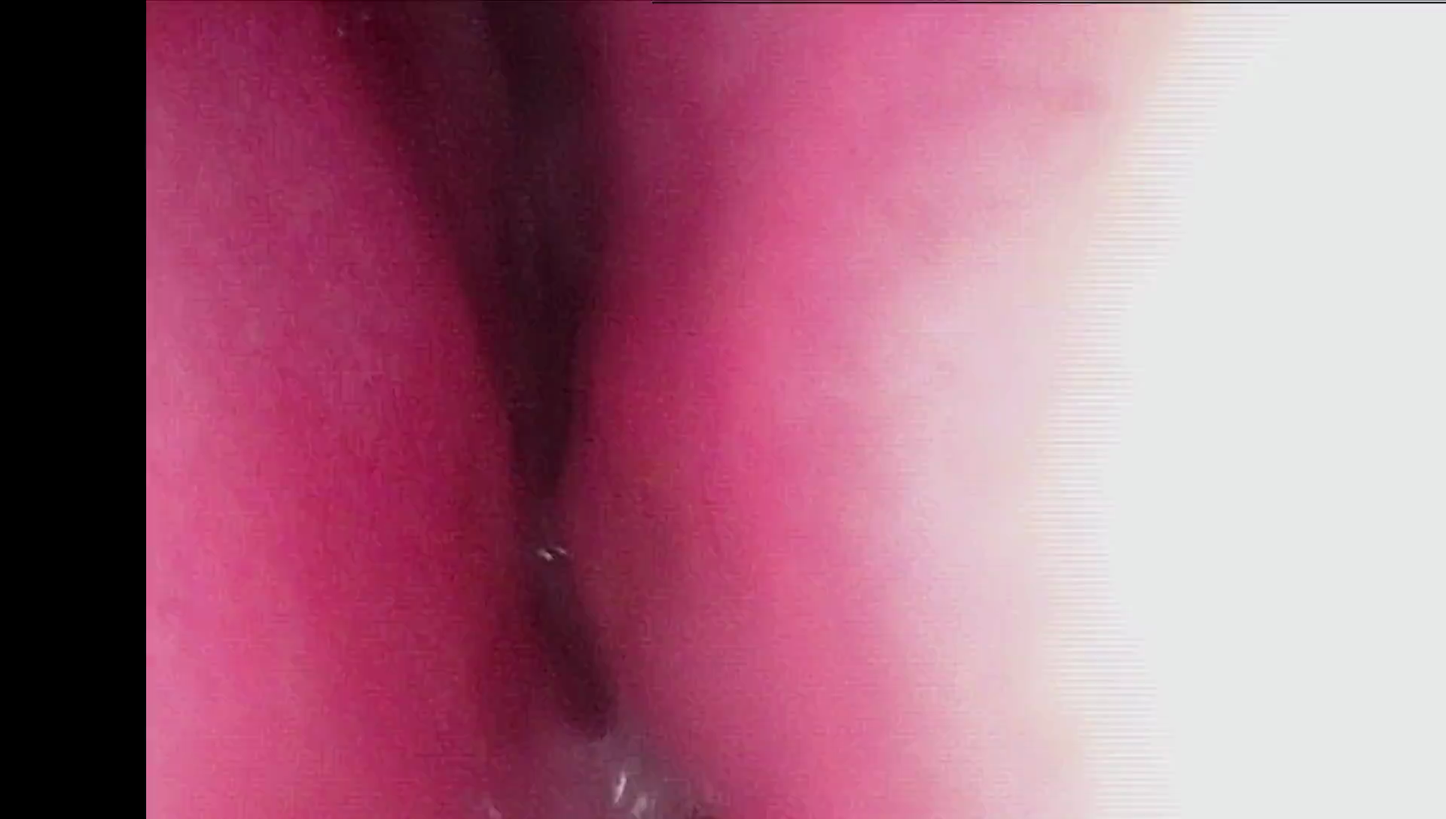close_wall: (804, 13, 1439, 808)
next: (438, 108, 600, 575)
